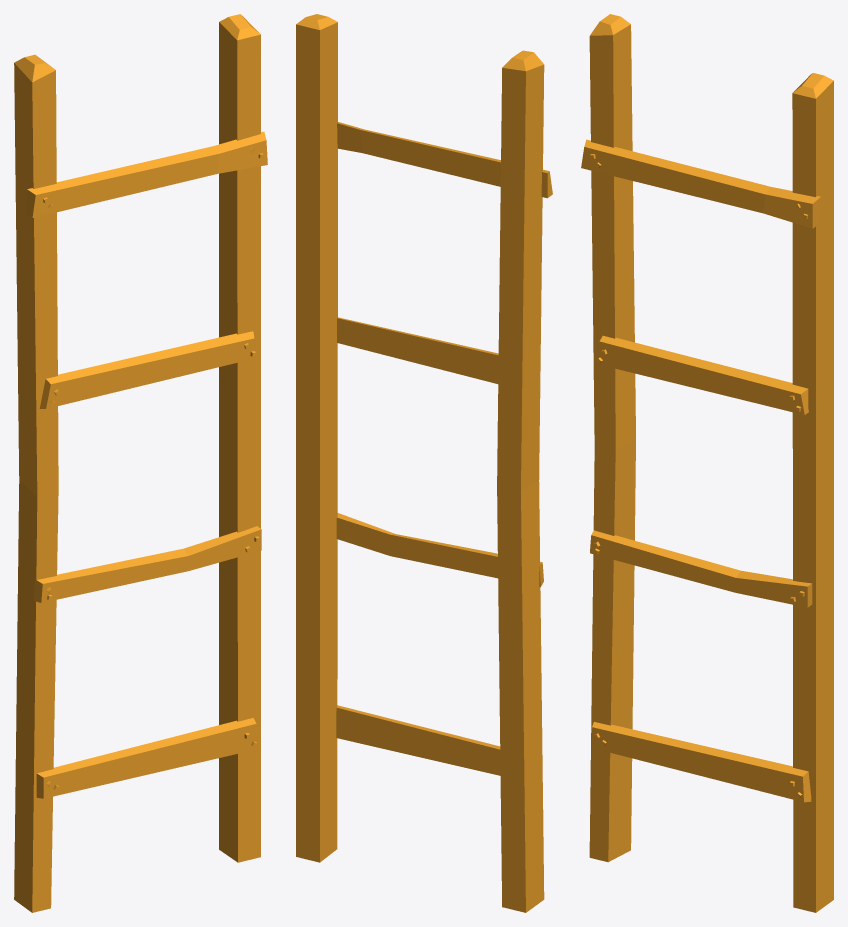
Rendered from SM_Ladder_Farm_A.fbx.
3 renders of one model, left to right at view 1: azimuth 30°, elevation 25°; view 2: azimuth 150°, elevation 25°; view 3: azimuth 330°, elevation 25°, orthographic.
Visible parts, largest first — view 1: ladder-farm-a; view 2: ladder-farm-a; view 3: ladder-farm-a.
Part boxes in pixels (x1=…): ladder-farm-a: x1=14, y1=14, x2=267, y2=912; ladder-farm-a: x1=296, y1=14, x2=552, y2=912; ladder-farm-a: x1=581, y1=14, x2=833, y2=912.
Bounding box in the file's own units: 0.5 × 1.7 × 0.0892.
